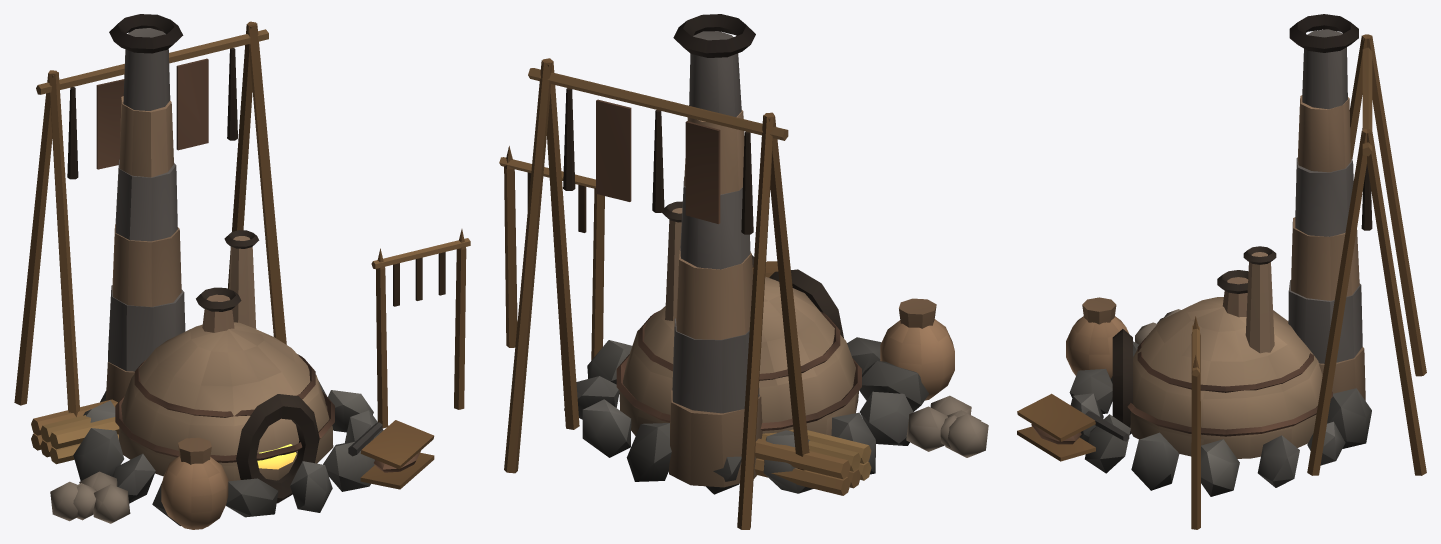
Rendered from firepit.glb.
3 renders of one model, left to right at view 1: azimuth 30°, elevation 25°; view 2: azimuth 150°, elevation 25°; view 3: azimuth 270°, elevation 25°, orthographic. The views are drawn at different scales.
Visible parts, largest first — view 1: Body.001, L2.001, L3.001; view 2: Body.001, L2.001, L3.001; view 3: Body.001, L3.001, L2.001.
Part boxes in pixels (x1=…): Body.001: x1=31, y1=229, x2=470, y2=525; L2.001: x1=14, y1=21, x2=286, y2=529; L3.001: x1=105, y1=14, x2=434, y2=489; Body.001: x1=499, y1=146, x2=988, y2=495; L2.001: x1=504, y1=58, x2=954, y2=529; L3.001: x1=616, y1=14, x2=861, y2=487; Body.001: x1=1069, y1=270, x2=1371, y2=529; L3.001: x1=1017, y1=14, x2=1365, y2=461; L2.001: x1=1066, y1=34, x2=1426, y2=475.
Bounding box in the file's own units: 2.23 × 2.06 × 1.91.
